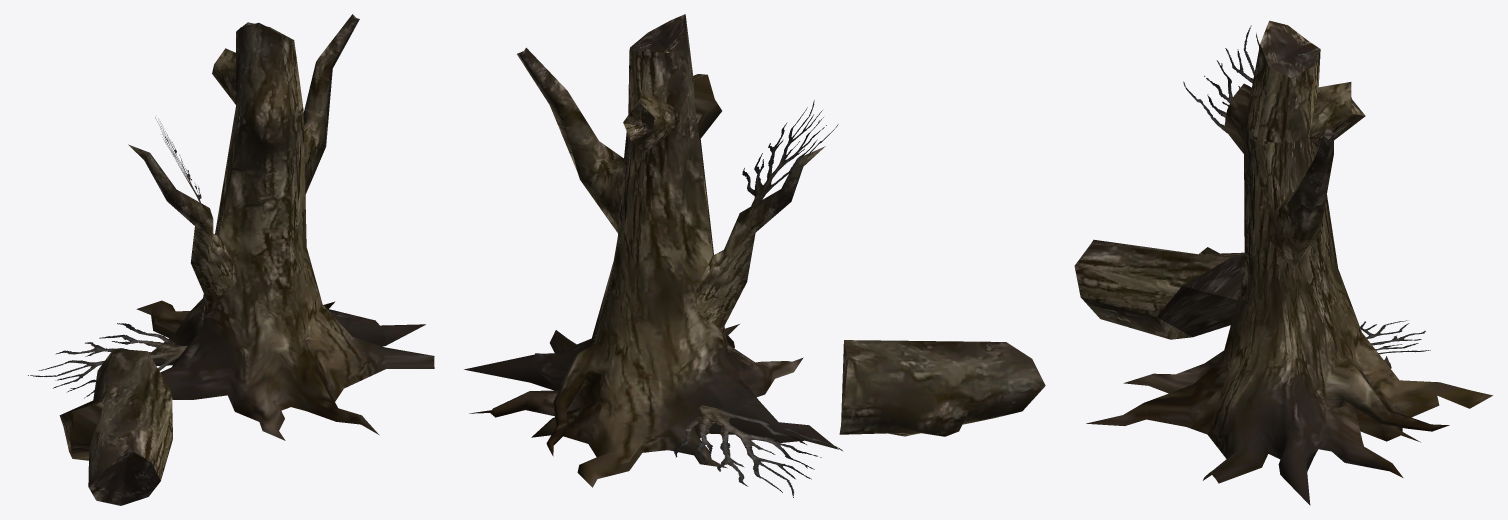
Rendered from environment_Tree_kushu_05_c.FBX.
The picture shows the model from 3 angles, left to right: view 1: azimuth 30°, elevation 25°; view 2: azimuth 150°, elevation 25°; view 3: azimuth 270°, elevation 25°; orthographic projection. The views are drawn at different scales.
Parts seen in each view (by area): view 1: environment_Tree_kushu_05_a, environment_Tree_kushu_05_b, environment_Tree_kushu_05_c; view 2: environment_Tree_kushu_05_a, environment_Tree_kushu_05_b, environment_Tree_kushu_05_c; view 3: environment_Tree_kushu_05_a, environment_Tree_kushu_05_b, environment_Tree_kushu_05_c.
Part boxes in pixels (<box>): environment_Tree_kushu_05_a: <box>128,14,434,440</box>; environment_Tree_kushu_05_b: <box>59,348,172,505</box>; environment_Tree_kushu_05_c: <box>28,117,205,398</box>; environment_Tree_kushu_05_a: <box>464,14,838,487</box>; environment_Tree_kushu_05_b: <box>839,340,1045,436</box>; environment_Tree_kushu_05_c: <box>674,100,842,497</box>; environment_Tree_kushu_05_a: <box>1086,20,1492,505</box>; environment_Tree_kushu_05_b: <box>1074,239,1244,339</box>; environment_Tree_kushu_05_c: <box>1183,25,1430,354</box>.
Size of the model in its own units: 111 by 90.92 by 85.31.
Materials: 2 (2 with a texture image).
